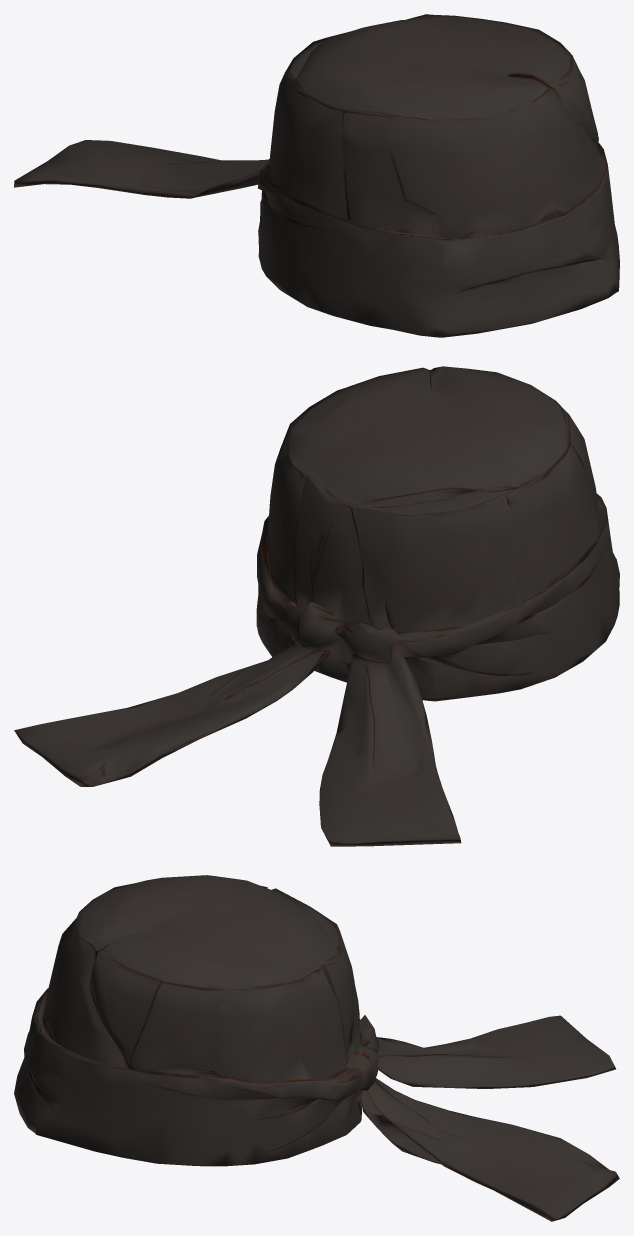
File: futou.glb
The picture shows the model from 3 angles, top to bottom: view 1: azimuth 30°, elevation 25°; view 2: azimuth 150°, elevation 25°; view 3: azimuth 270°, elevation 25°; orthographic projection. The views are drawn at different scales.
Parts seen in each view (by area): view 1: tripo_node_dbe6b268-f625-49d1-8605-df4a5ae2fd2f; view 2: tripo_node_dbe6b268-f625-49d1-8605-df4a5ae2fd2f; view 3: tripo_node_dbe6b268-f625-49d1-8605-df4a5ae2fd2f.
Boxes of the visible parts, x1,y1,x2,y2 form: tripo_node_dbe6b268-f625-49d1-8605-df4a5ae2fd2f: (14,14,619,337); tripo_node_dbe6b268-f625-49d1-8605-df4a5ae2fd2f: (14,366,619,846); tripo_node_dbe6b268-f625-49d1-8605-df4a5ae2fd2f: (14,875,619,1221).
Bounding box in the file's own units: 0.7758 × 0.3902 × 1.
1 material, 1 textured.
